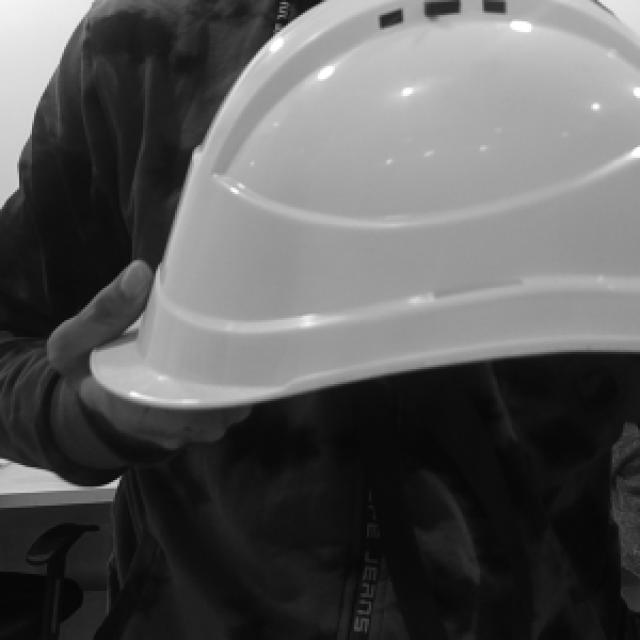safety_helmet: (89, 2, 640, 409)
